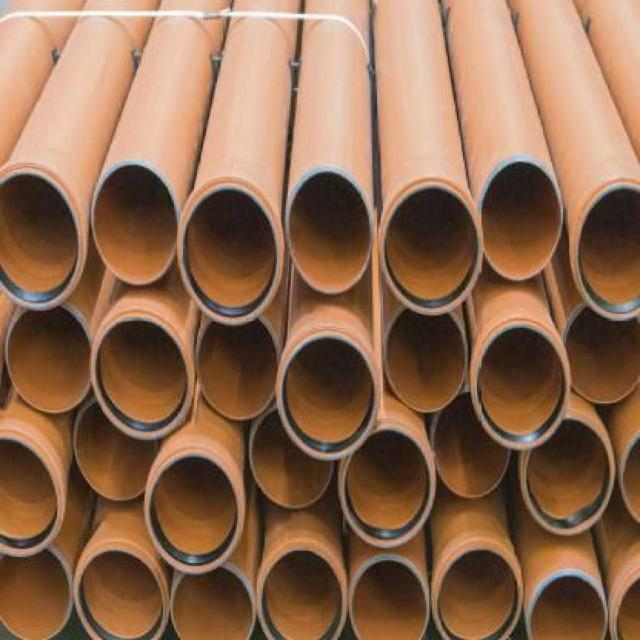pipe: (178, 180, 283, 326), (383, 185, 481, 316), (276, 335, 376, 460), (474, 323, 570, 451), (145, 451, 241, 576), (91, 318, 190, 438), (340, 426, 435, 548), (0, 173, 80, 313), (286, 169, 374, 295), (90, 160, 178, 285), (524, 416, 615, 536), (479, 159, 564, 283), (383, 303, 468, 414), (5, 306, 93, 412), (575, 183, 640, 322), (250, 407, 333, 510), (197, 320, 280, 422), (74, 548, 167, 639), (561, 301, 640, 407), (433, 392, 510, 500), (74, 402, 158, 501), (258, 545, 346, 639), (434, 548, 522, 639), (0, 435, 60, 557), (348, 554, 430, 639), (0, 545, 74, 639), (171, 566, 255, 640), (528, 572, 610, 639), (609, 569, 640, 640), (618, 431, 640, 527)
